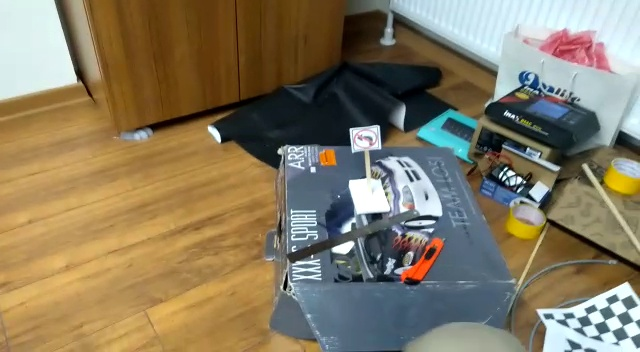sola_donulmez: (351, 125, 378, 149)
